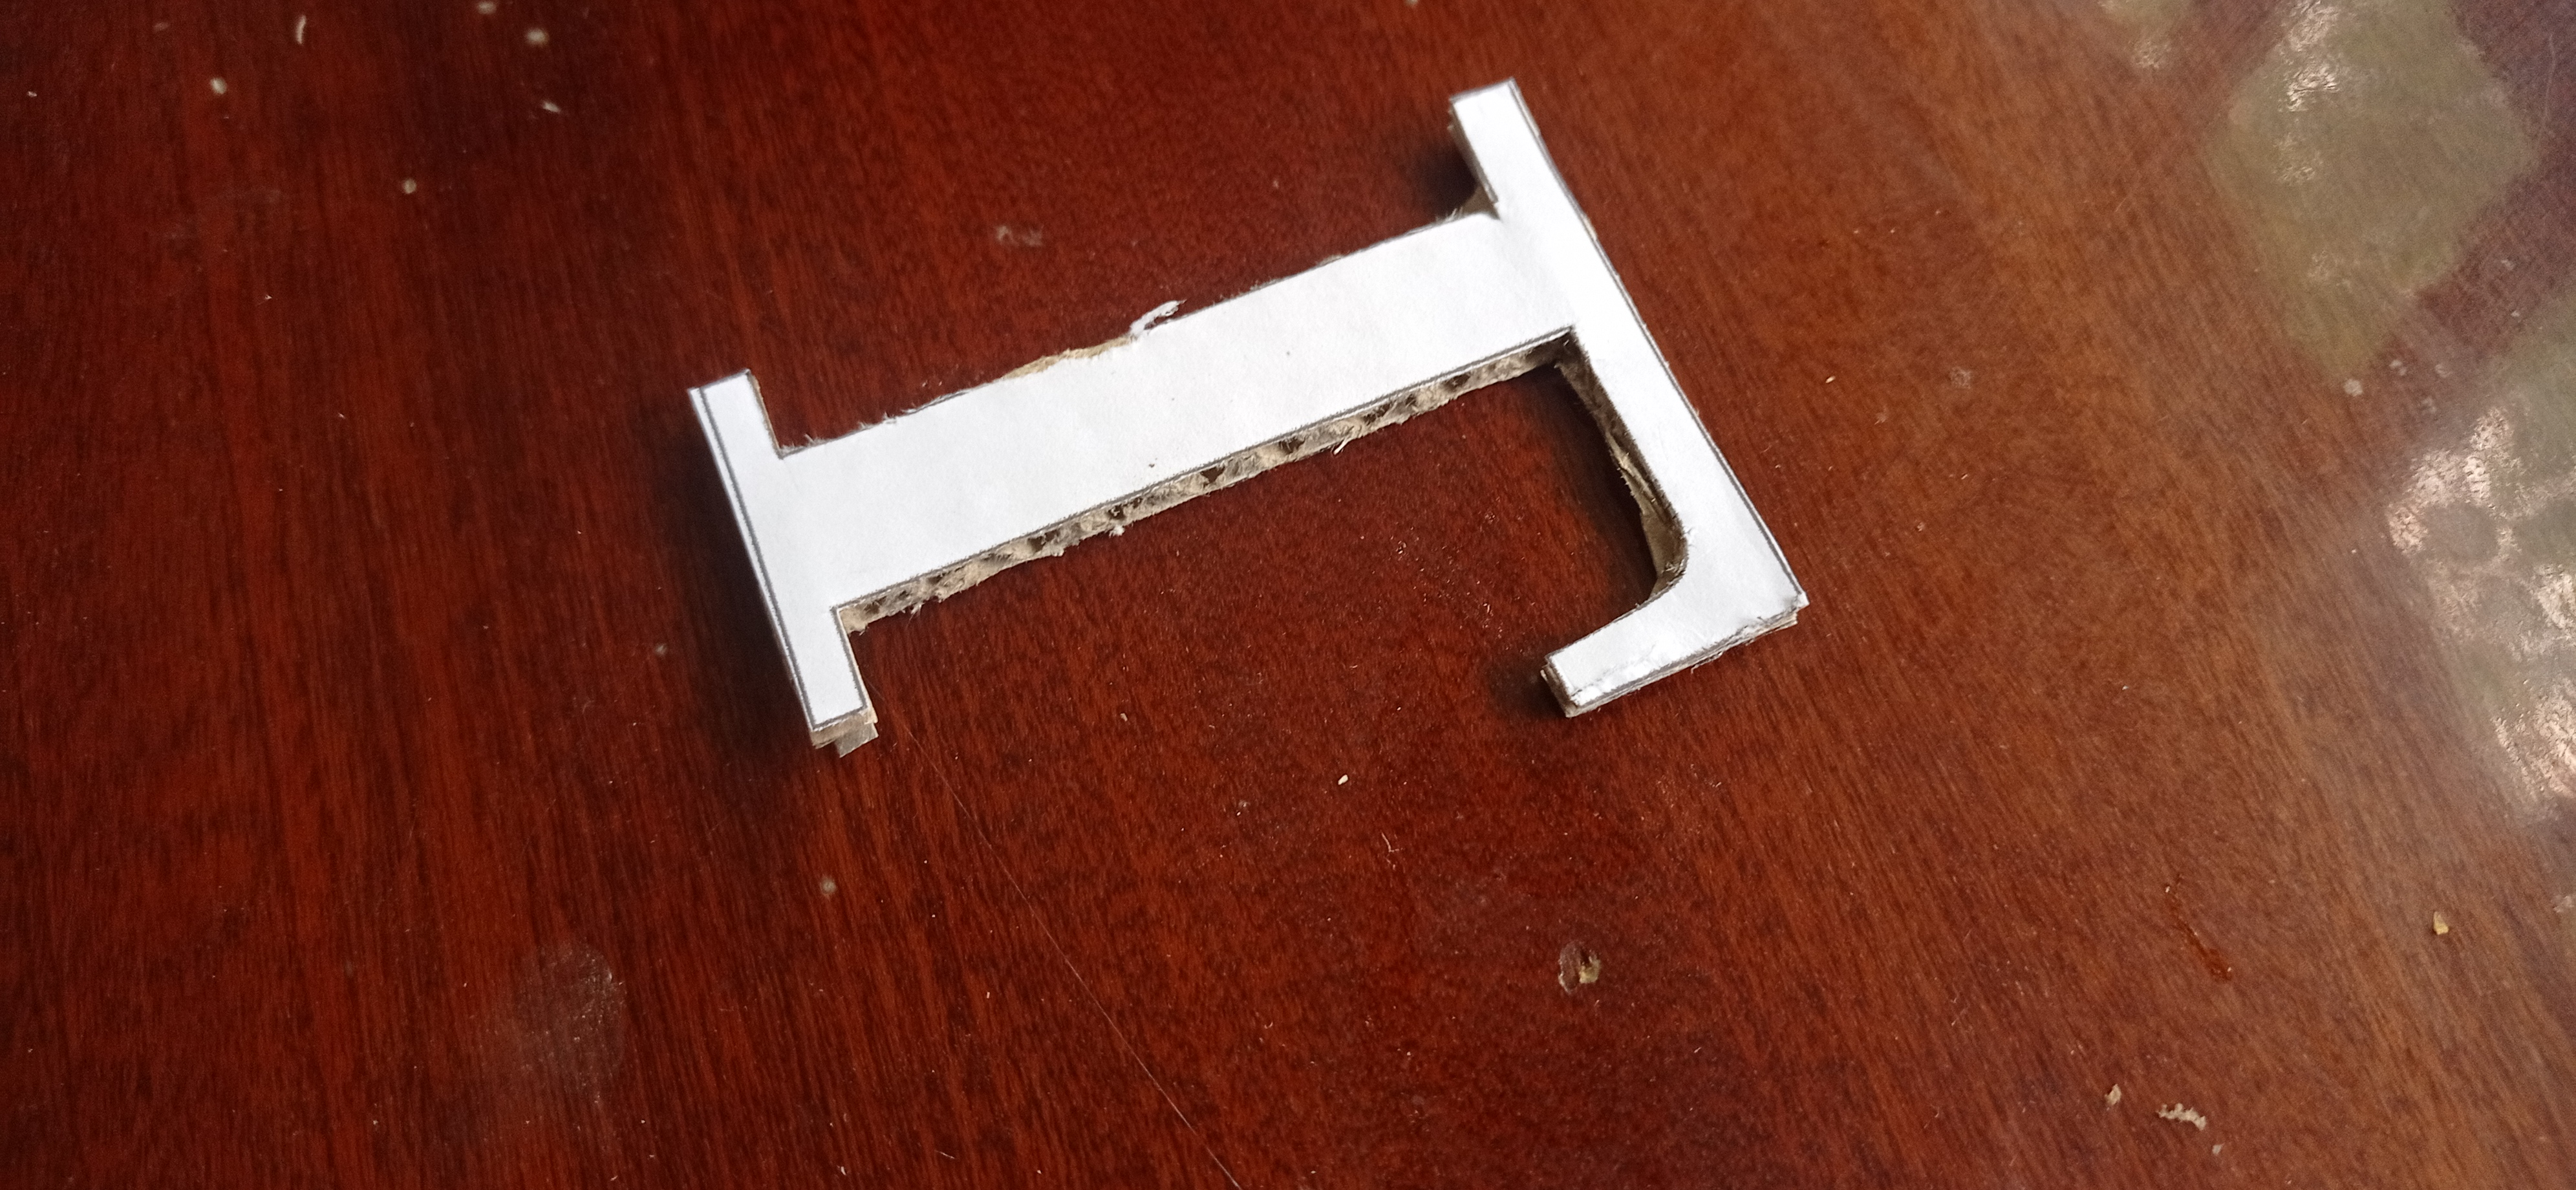g: (682, 81, 1812, 777)
